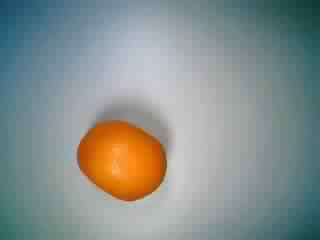orange: (71, 117, 173, 204)
